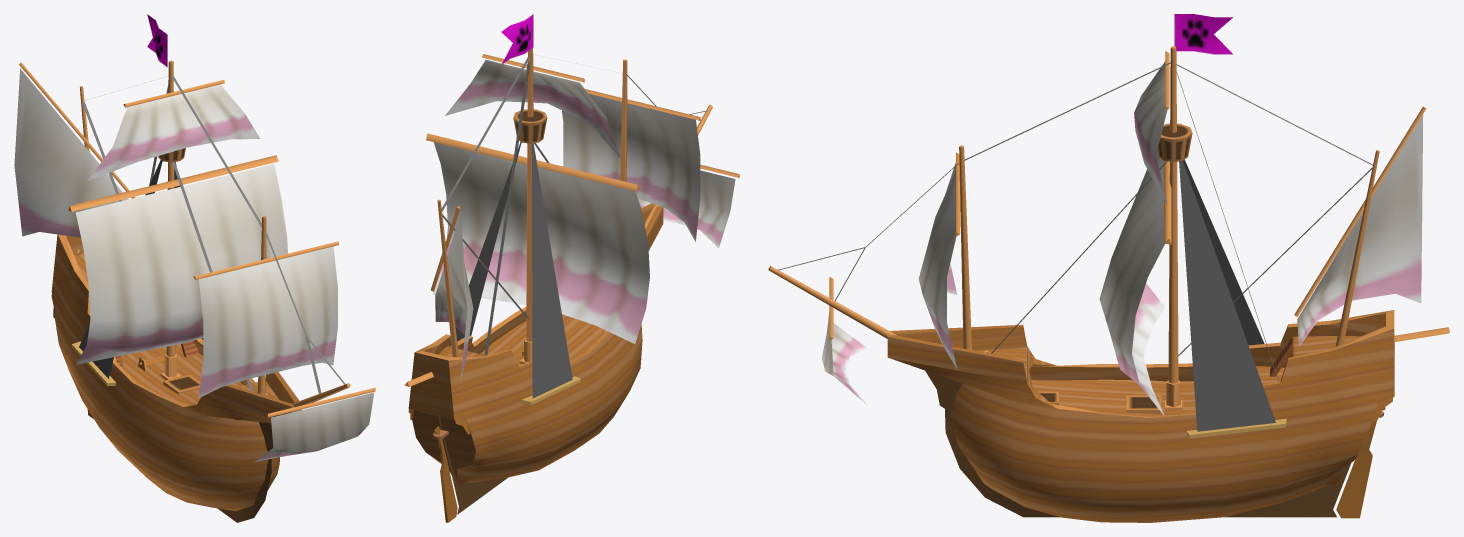
The model's file is test_lod_ResetXform3.FBX.
The picture shows the model from 3 angles, left to right: view 1: azimuth 30°, elevation 25°; view 2: azimuth 150°, elevation 25°; view 3: azimuth 270°, elevation 25°; orthographic projection. The views are drawn at different scales.
Visible parts, largest first — view 1: PLACHTY, TRUP, PLACHTY001, tiahla, tiahla001; view 2: PLACHTY, TRUP, PLACHTY001, tiahla, tiahla001; view 3: TRUP, PLACHTY, tiahla, PLACHTY001, tiahla001.
Part boxes in pixels (x1,y1,x2,y2): PLACHTY: (14,14,374,461); TRUP: (19,60,375,522); PLACHTY001: (15,16,373,460); tiahla: (79,75,345,394); tiahla001: (83,76,344,393); PLACHTY: (433,14,735,379); TRUP: (404,48,739,522); PLACHTY001: (435,16,733,373); tiahla: (441,57,707,398); tiahla001: (442,57,701,391); TRUP: (768,46,1449,522); PLACHTY: (821,14,1423,416); tiahla: (778,62,1372,431); PLACHTY001: (823,14,1422,411); tiahla001: (780,63,1371,431).
Bounding box in the file's own units: 771 × 1571 × 1934.
Materials: 2 (2 with a texture image).
